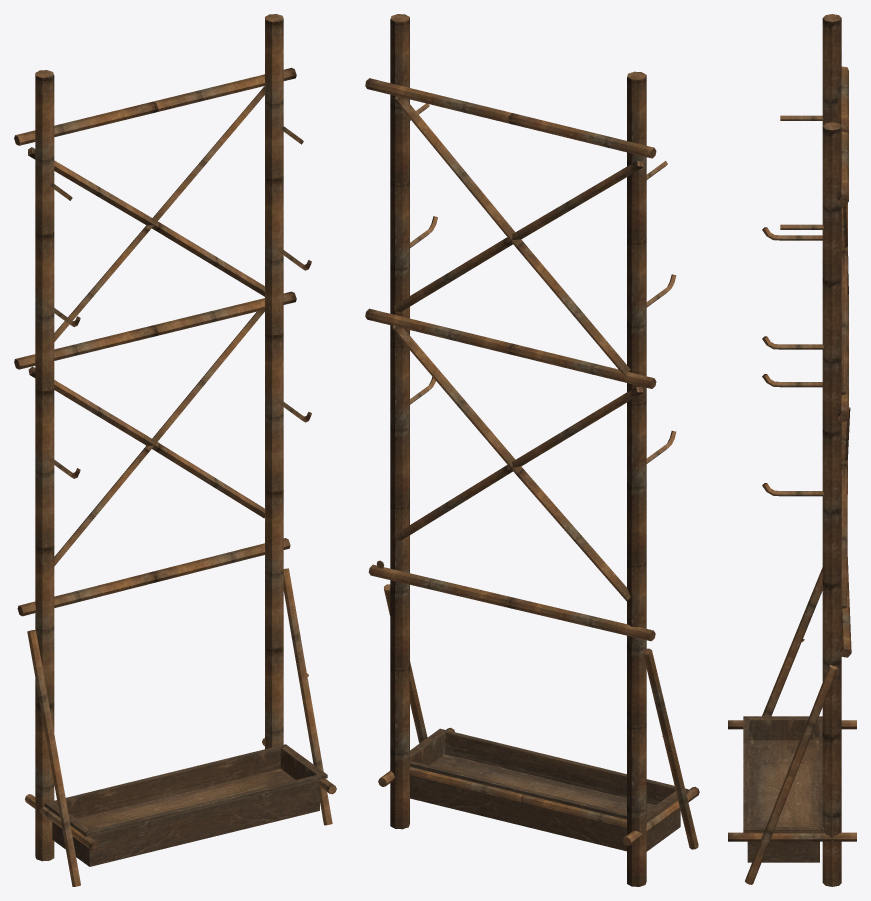
Rendered from WoodJiaZi_2.fbx.
The picture shows the model from 3 angles, left to right: view 1: azimuth 30°, elevation 25°; view 2: azimuth 150°, elevation 25°; view 3: azimuth 270°, elevation 25°; orthographic projection. The views are drawn at different scales.
Visible parts, largest first — view 1: 3D_WoodJiaZi2.mo; view 2: 3D_WoodJiaZi2.mo; view 3: 3D_WoodJiaZi2.mo.
Part boxes in pixels (<box>): 3D_WoodJiaZi2.mo: <box>14,14,336,886</box>; 3D_WoodJiaZi2.mo: <box>365,14,699,886</box>; 3D_WoodJiaZi2.mo: <box>728,14,856,886</box>.
Bounding box in the file's own units: 17.42 × 47.11 × 7.26.
1 material, 1 textured.
